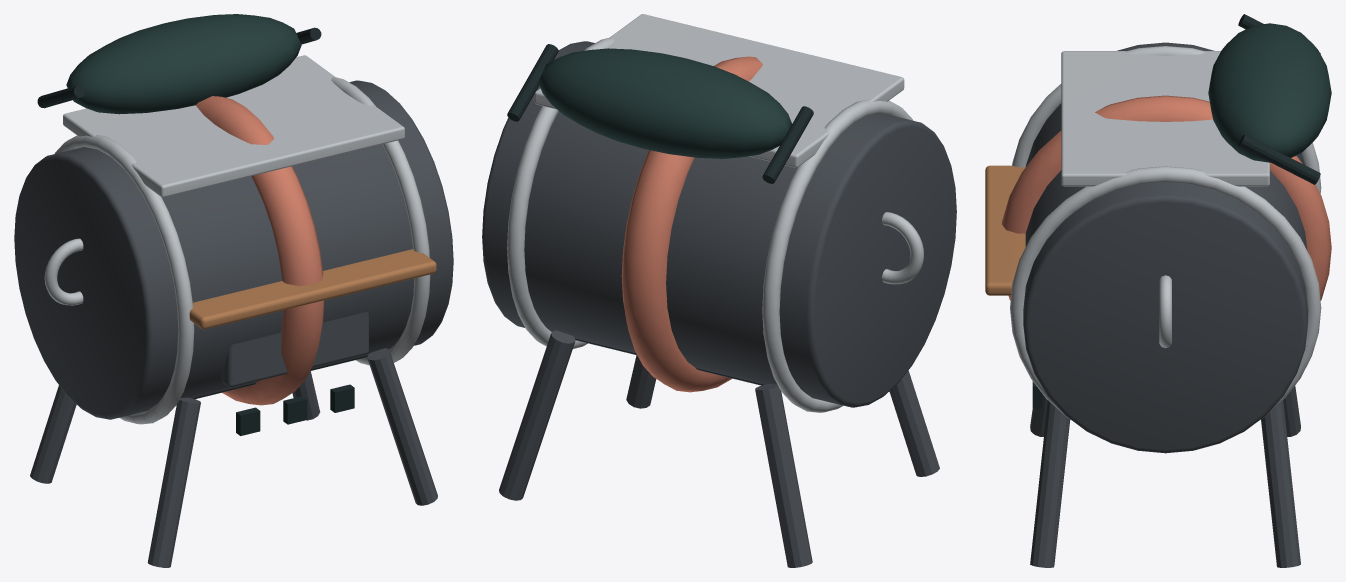
The model's file is bbq_barrel.glb.
The picture shows the model from 3 angles, left to right: view 1: azimuth 30°, elevation 25°; view 2: azimuth 150°, elevation 25°; view 3: azimuth 270°, elevation 25°; orthographic projection. The views are drawn at different scales.
Parts seen in each view (by area): view 1: Barrel body, Grill grate.001, Barrel hood, Tint, Front shelf, Barrel hoop, Drum door, Barrel leg.001, Barrel hoop.001, Barrel leg.003, Barrel leg, Drum handle (+5 smaller); view 2: Barrel body, Barrel hood, Grill grate.001, Tint, Barrel hoop, Barrel leg, Barrel hoop.001, Barrel leg.002, Barrel leg.001, Drum handle, Hood hinge, Hood hinge.001 (+1 smaller); view 3: Barrel body, Grill grate.001, Barrel hood, Barrel hoop.001, Tint, Barrel leg.003, Barrel leg.002, Front shelf, Barrel hoop, Hood hinge.001, Drum handle.001, Barrel leg (+1 smaller).
Part boxes in pixels (left/top/right/bottom): Barrel body: left=14, top=80, right=453, bottom=419; Grill grate.001: left=63, top=55, right=404, bottom=197; Barrel hood: left=66, top=14, right=301, bottom=114; Tint: left=195, top=96, right=324, bottom=405; Front shelf: left=189, top=249, right=436, bottom=329; Barrel hoop: left=54, top=134, right=194, bottom=424; Drum door: left=221, top=312, right=368, bottom=387; Barrel leg.001: left=147, top=397, right=200, bottom=567; Barrel hoop.001: left=331, top=77, right=430, bottom=365; Barrel leg.003: left=367, top=348, right=437, bottom=505; Barrel leg: left=30, top=385, right=76, bottom=483; Drum handle: left=44, top=238, right=83, bottom=305; Barrel body: left=482, top=41, right=956, bottom=407; Barrel hood: left=538, top=48, right=791, bottom=158; Grill grate.001: left=534, top=14, right=904, bottom=167; Tint: left=621, top=56, right=762, bottom=392; Barrel hoop: left=762, top=100, right=913, bottom=412; Barrel leg: left=755, top=384, right=812, bottom=567; Barrel hoop.001: left=507, top=37, right=614, bottom=348; Barrel leg.002: left=499, top=330, right=575, bottom=500; Barrel leg.001: left=889, top=370, right=939, bottom=476; Drum handle: left=882, top=212, right=923, bottom=284; Hood hinge: left=762, top=106, right=813, bottom=183; Hood hinge.001: left=507, top=44, right=558, bottom=121; Barrel body: left=1023, top=42, right=1307, bottom=453; Grill grate.001: left=1061, top=51, right=1269, bottom=186; Barrel hood: left=1208, top=23, right=1331, bottom=162; Barrel hoop.001: left=1010, top=166, right=1321, bottom=419; Tint: left=1002, top=95, right=1331, bottom=300; Barrel leg.003: left=1030, top=400, right=1070, bottom=567; Barrel leg.002: left=1261, top=400, right=1300, bottom=567; Front shelf: left=985, top=165, right=1025, bottom=295; Barrel hoop: left=1012, top=46, right=1321, bottom=193; Hood hinge.001: left=1238, top=134, right=1320, bottom=184; Drum handle.001: left=1159, top=275, right=1171, bottom=348; Barrel leg: left=1283, top=385, right=1300, bottom=436.
Bounding box in the file's own units: 0.958 × 1.04 × 0.73.
